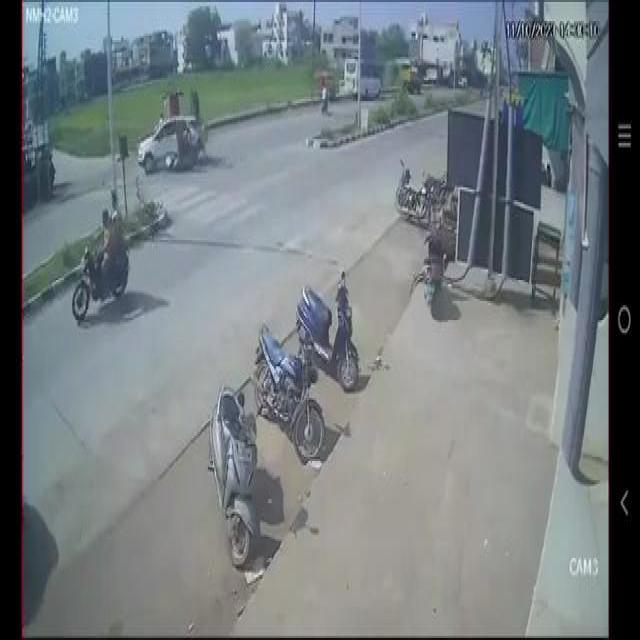accident: (134, 101, 214, 179)
